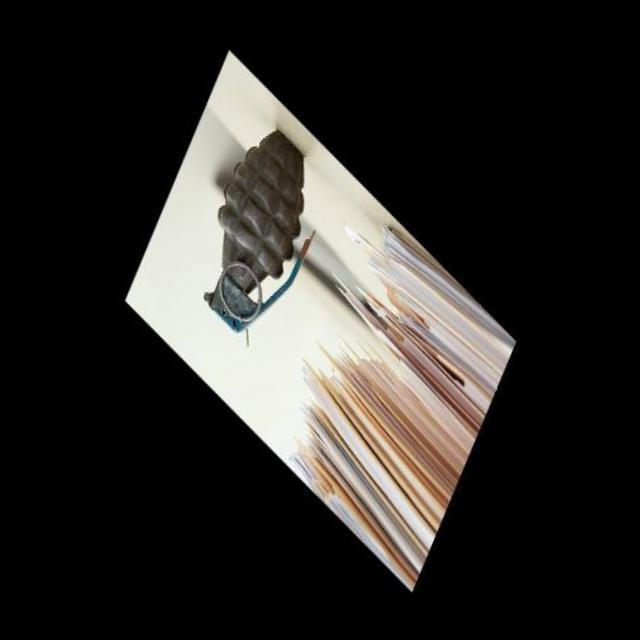grenade: (172, 118, 346, 350)
